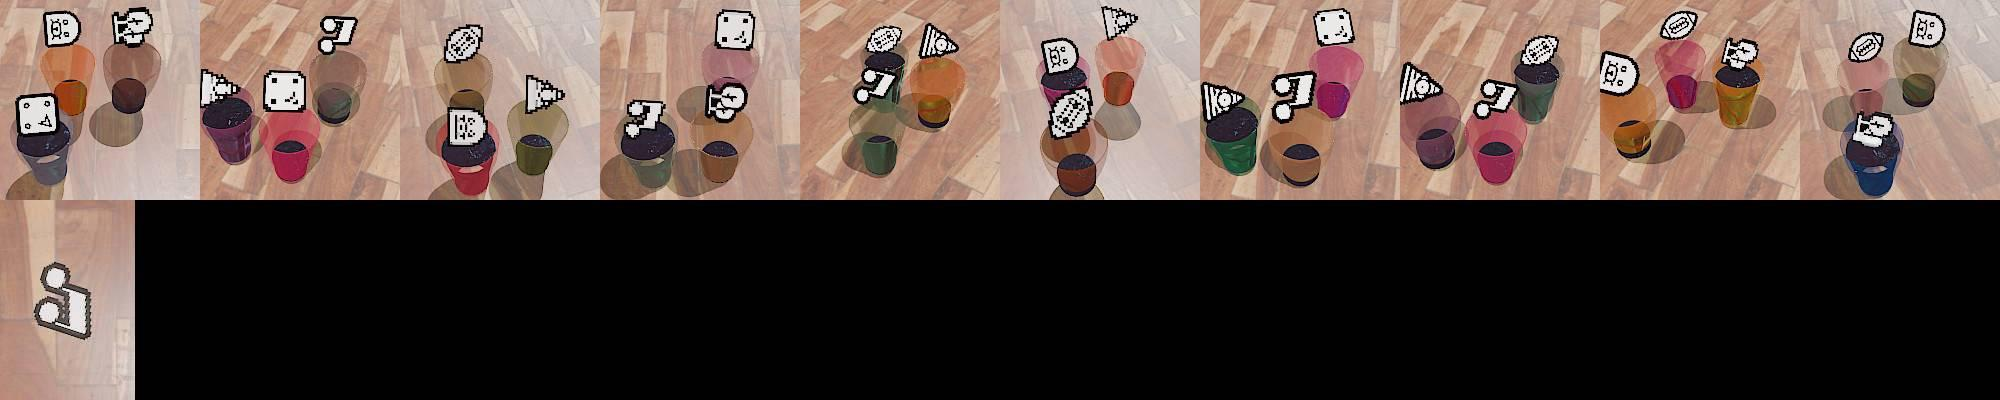icon: (33, 260, 94, 340), (1270, 68, 1318, 121), (1047, 85, 1093, 140), (15, 92, 61, 136), (263, 69, 307, 112), (1473, 79, 1520, 120), (1598, 50, 1639, 97), (1202, 80, 1244, 125), (705, 82, 749, 124), (713, 9, 756, 51), (524, 73, 568, 113), (443, 22, 483, 65), (1401, 61, 1441, 103), (624, 97, 667, 136), (855, 65, 899, 103), (111, 8, 153, 47), (1851, 111, 1897, 146), (200, 69, 241, 108), (318, 15, 358, 55), (448, 106, 487, 146), (1041, 36, 1080, 75), (42, 10, 82, 50), (918, 22, 959, 60), (1314, 8, 1355, 46), (1517, 34, 1561, 68), (1908, 9, 1945, 47), (1721, 37, 1760, 71), (1659, 9, 1700, 42), (1101, 4, 1138, 39), (866, 23, 904, 55), (1848, 31, 1884, 64)
